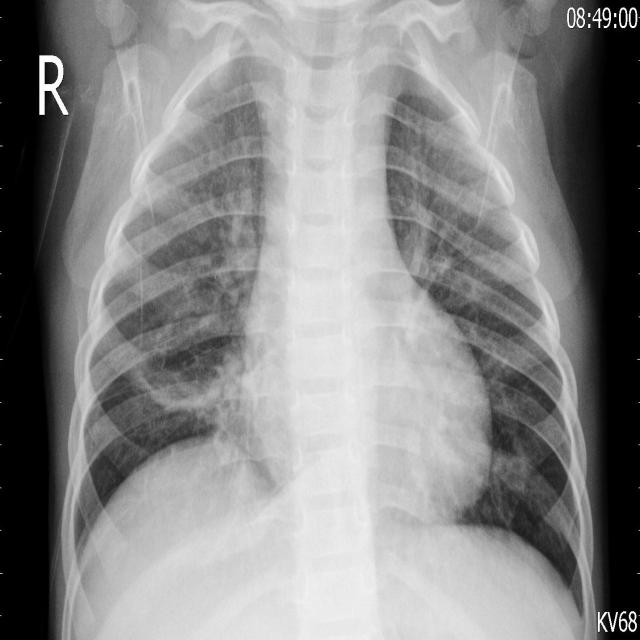low-pneumonia: (392, 160, 471, 293), (148, 354, 248, 435), (209, 179, 260, 310)
